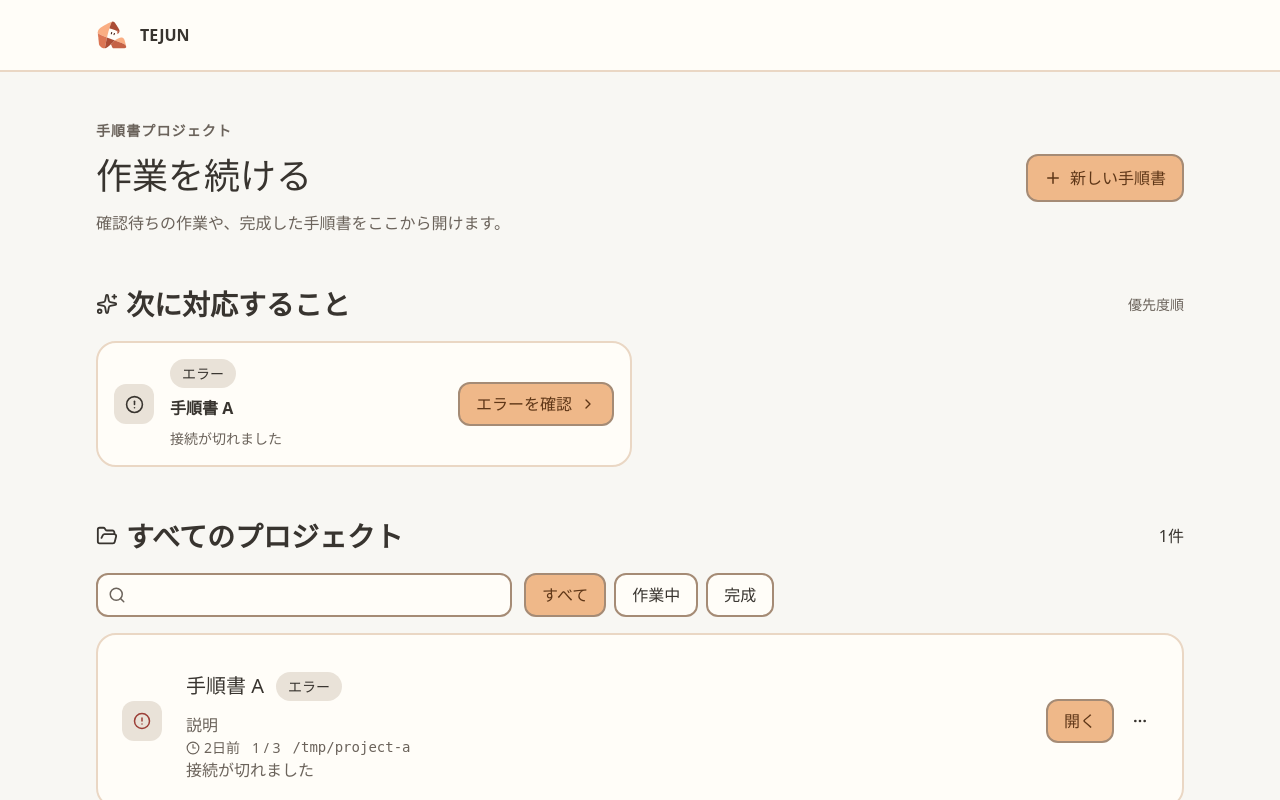
Test case: 三点メニューの複製とアーカイブにアイコンを表示する
Press the mouse on the button named "手順書 Aのその他の操作": (1140, 720) [1122,702,1158,738]
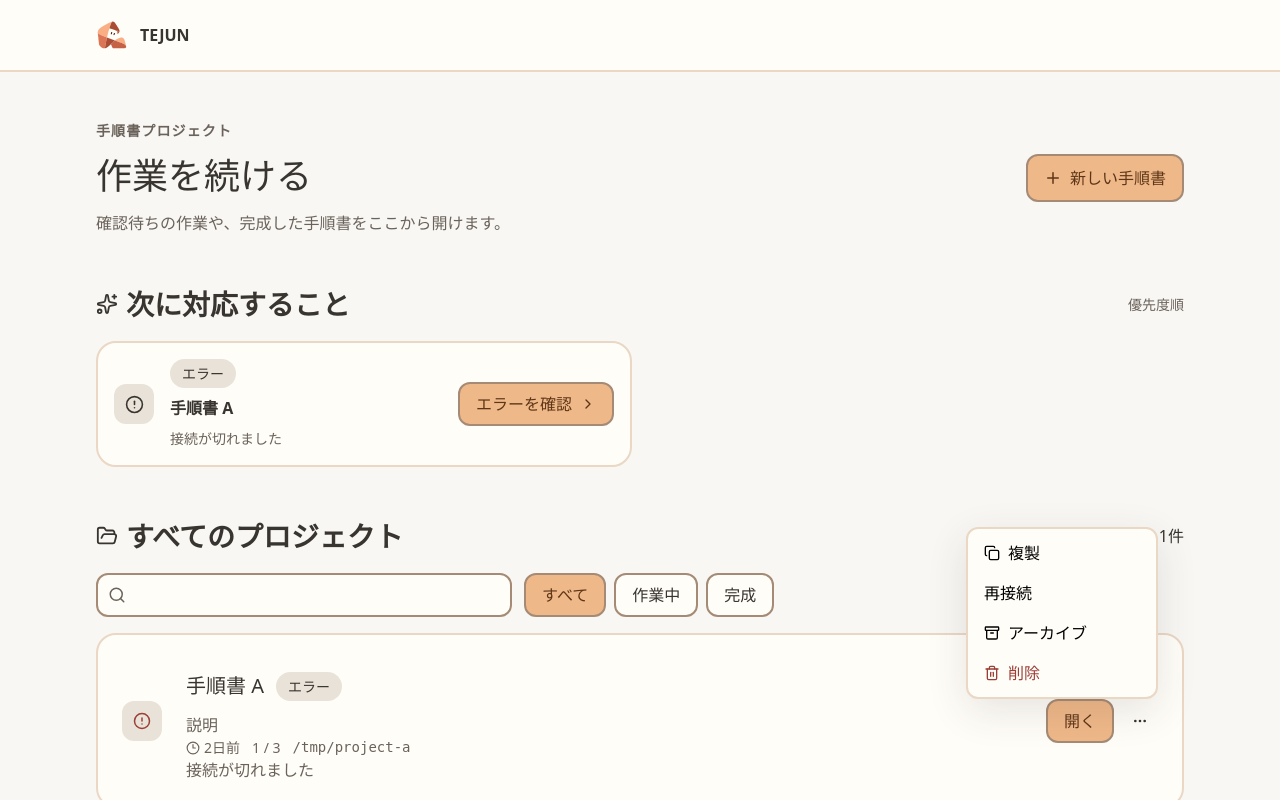
Expected: the icon with class "lucide-copy" is shown, [984,545,1000,561]
Expected: the icon with class "lucide-archive" is shown, [984,625,1000,641]
Expected: the icon with class "lucide-trash-2" is shown, [984,665,1000,681]
